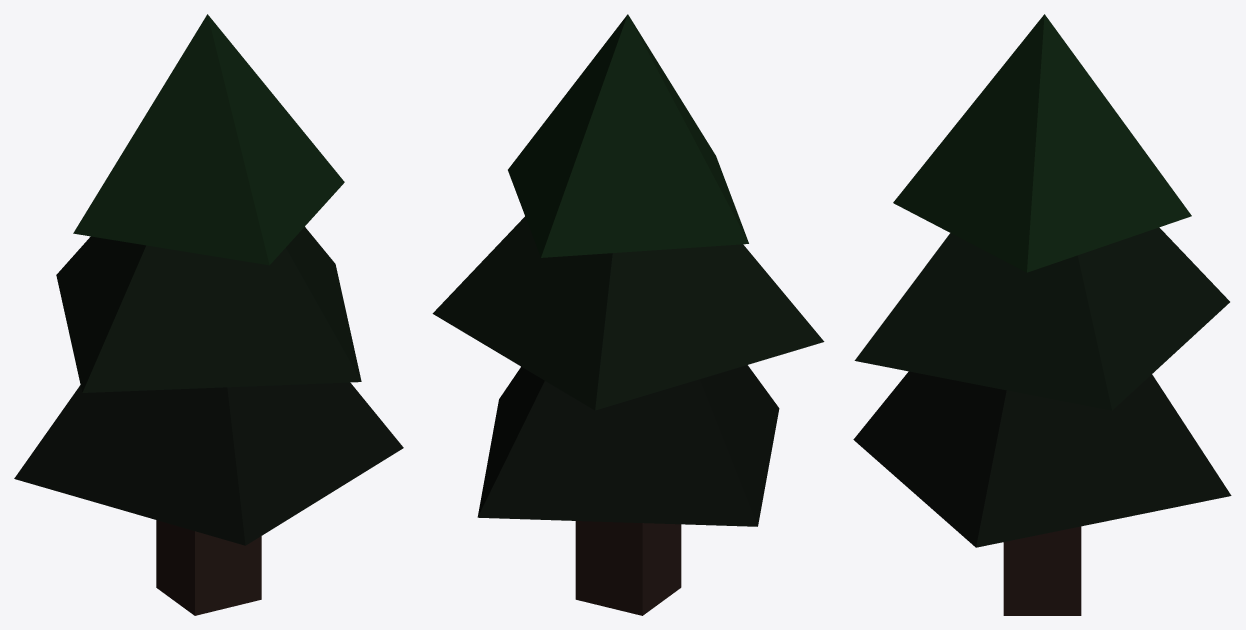
File: tree_pine_1.fbx
3 renders of one model, left to right at view 1: azimuth 30°, elevation 25°; view 2: azimuth 150°, elevation 25°; view 3: azimuth 270°, elevation 25°, orthographic.
Visible parts, largest first — view 1: tree_pine; view 2: tree_pine; view 3: tree_pine.
Part boxes in pixels (left/top/right/bottom): tree_pine: left=14, top=14, right=403, bottom=615; tree_pine: left=432, top=14, right=824, bottom=615; tree_pine: left=853, top=14, right=1231, bottom=615.
Size of the model in its own units: 55.28 by 94.39 by 55.28.
